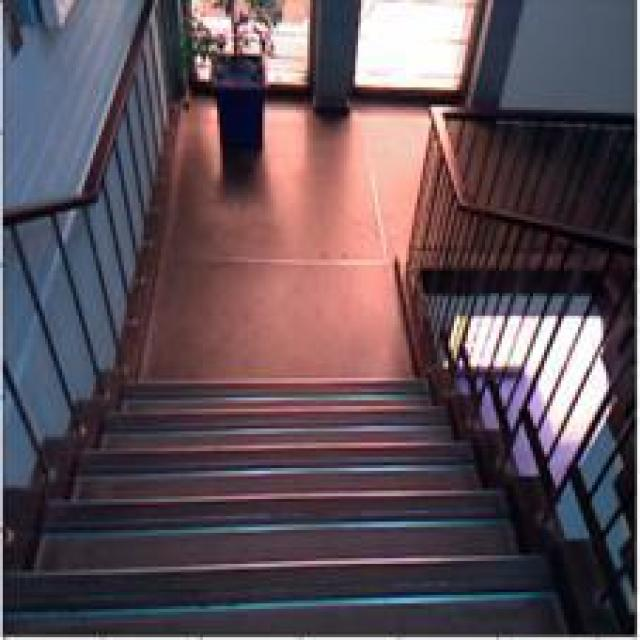downstair: (69, 458, 531, 635)
